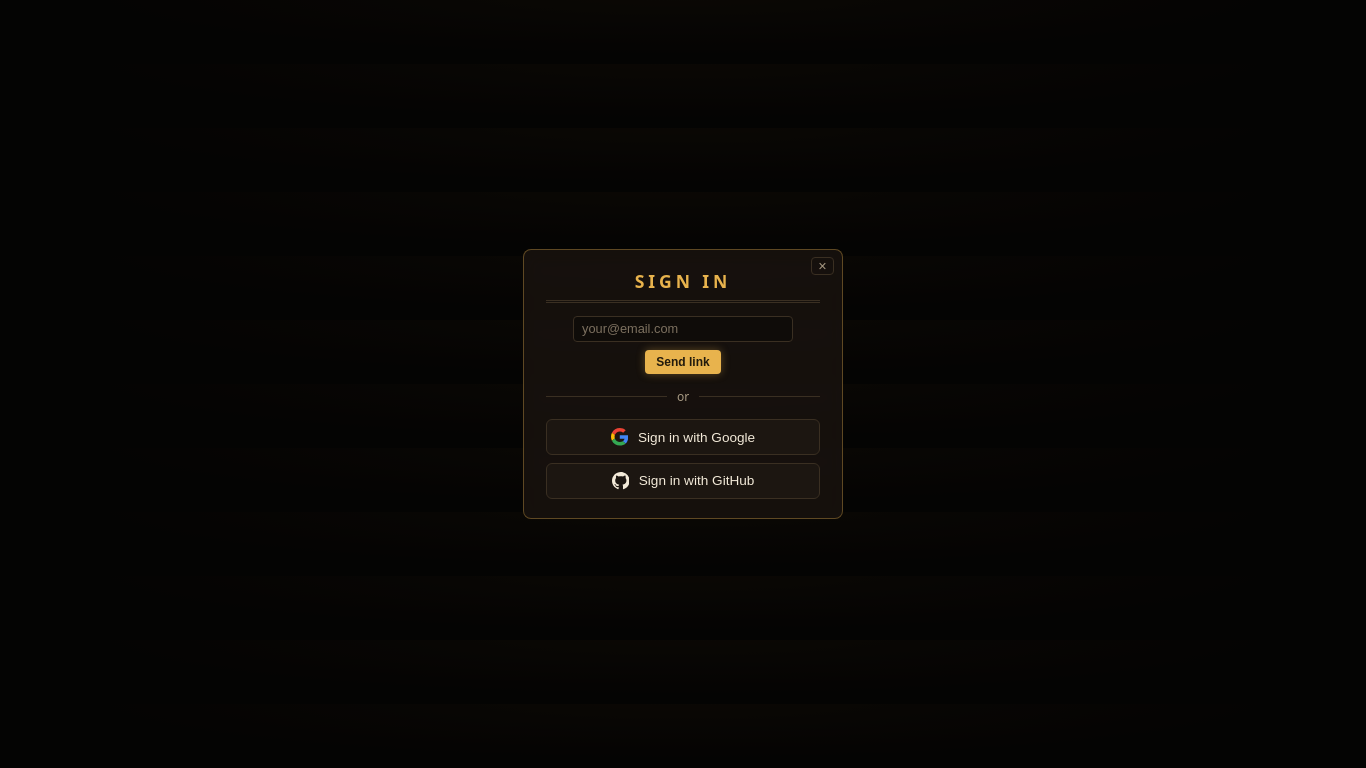
LoginModal › shows the waiting state after email submit
Type "a@b.com" into the field with placeholder "your@email.com" at [683, 329], box [573, 316, 793, 342]
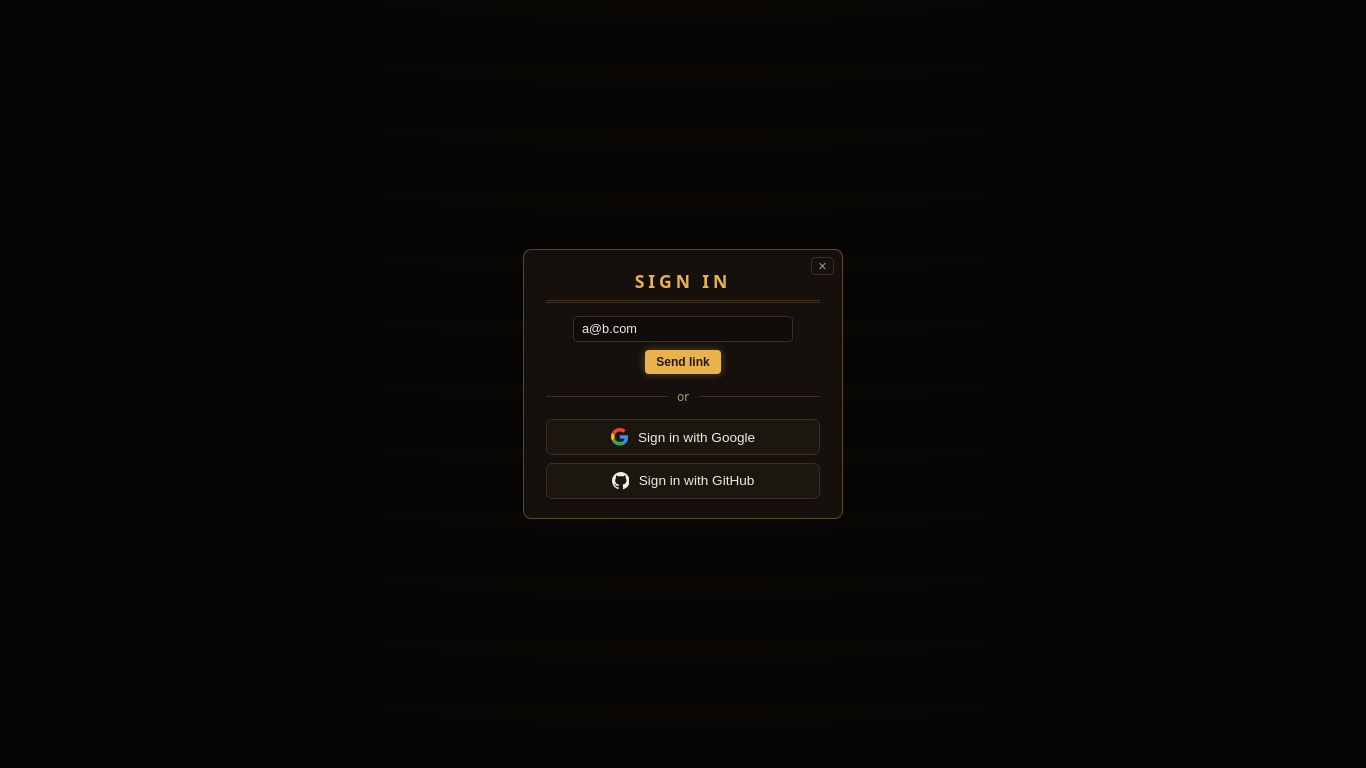
Click the button "Send link" at [683, 362], box [645, 350, 721, 374]
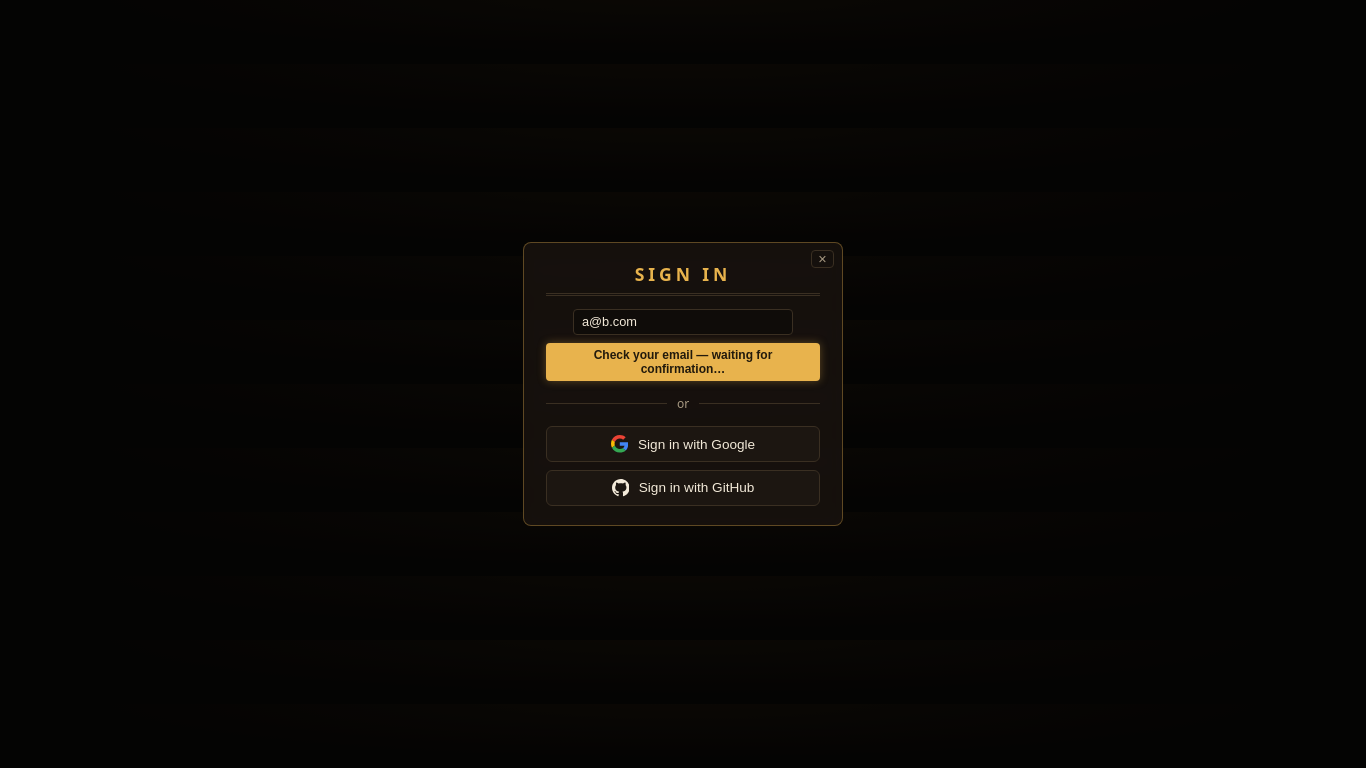
Expected: the button "Check your email — waiting for confirmation…" is shown, [546, 343, 820, 381]
